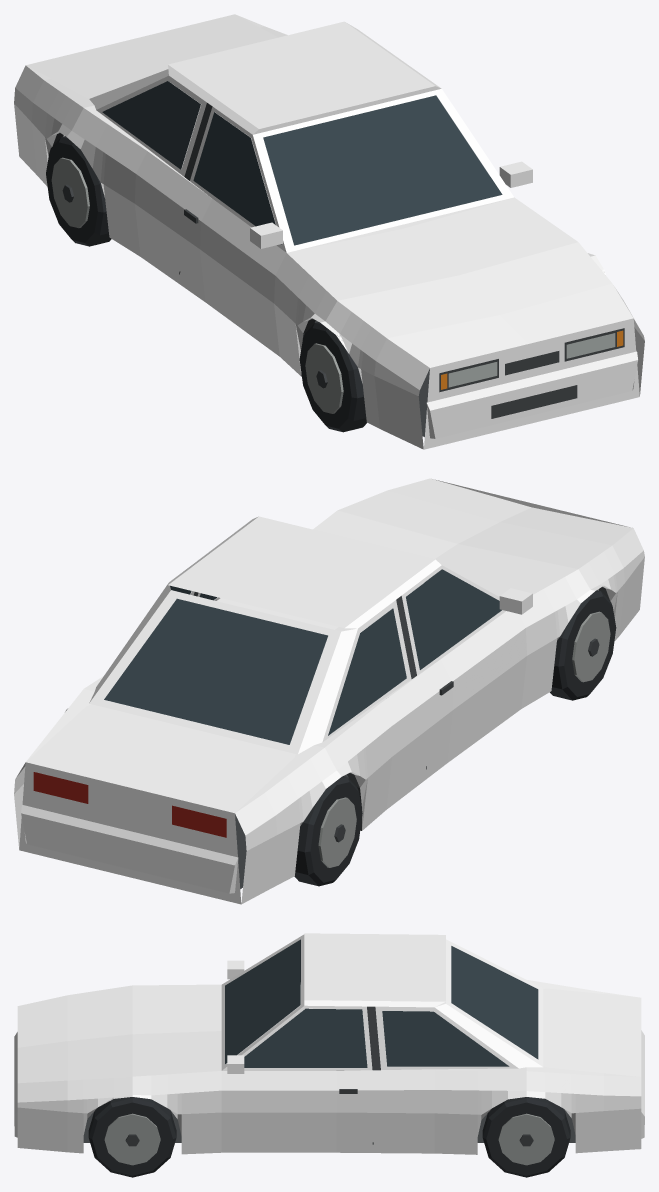
Rendered from hayase_hibari_s_97.glb.
The picture shows the model from 3 angles, top to bottom: view 1: azimuth 30°, elevation 25°; view 2: azimuth 150°, elevation 25°; view 3: azimuth 270°, elevation 25°; orthographic projection. The views are drawn at different scales.
Parts seen in each view (by area): view 1: hayase_hibari_s_97; view 2: hayase_hibari_s_97; view 3: hayase_hibari_s_97.
Part boxes in pixels (left/top/right/bottom): hayase_hibari_s_97: left=14, top=14, right=644, bottom=449; hayase_hibari_s_97: left=14, top=478, right=644, bottom=904; hayase_hibari_s_97: left=14, top=933, right=644, bottom=1177.
Size of the model in its own units: 1.74 by 1.26 by 4.45.
8 materials, 1 textured.
